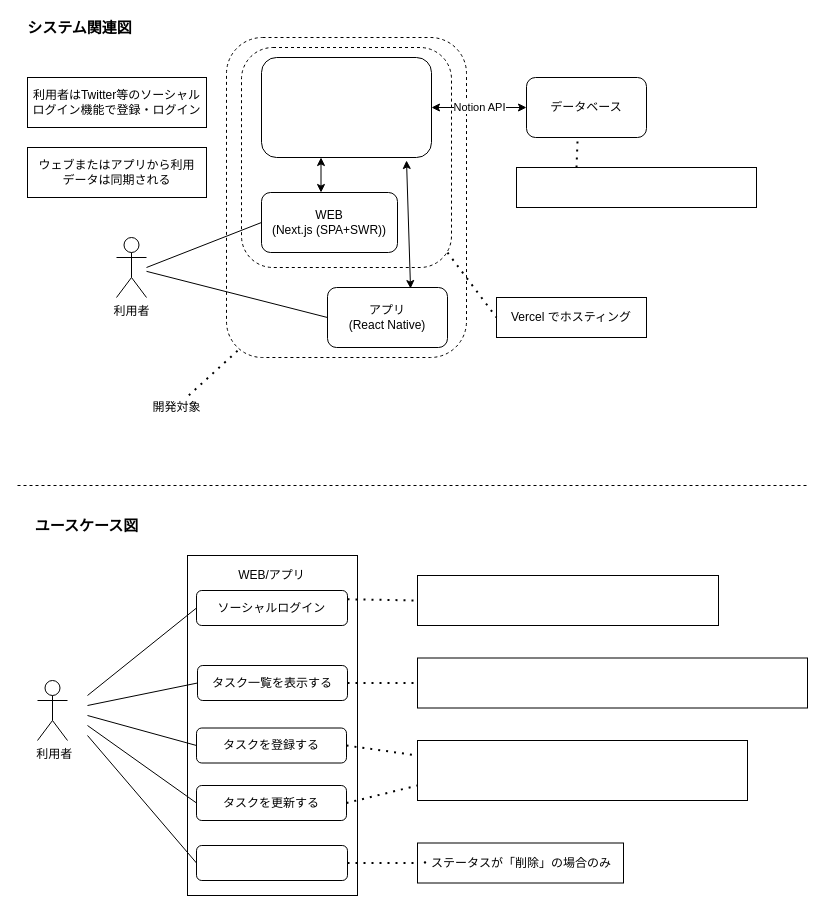
This 826x913 diagram has some shape labels left out. Here are the shapes that lost their labels. From the top down, the centre of each, then its label:
At (346,107): "API (Next.js)".
At (636,187): "データベースとして Notion の Integration を使用する".
At (567,600): "・未登録の場合は登録 ・すでに登録されている場合はログイン ・ユーザーは登録かログインかを意識しなくて良い".
At (612,682): "・状態とタグごとにタブ切り替え表示 ・タグのタブは「登録」「実行中」のタスクが存在するものだけ表示 ・日付でグループ化".
At (582,770): "・未使用のタグが使用されたらタグを作成 ・使用されていないタグは削除 ・ステータスは「登録」「実行中」「完了」「削除」".
At (272,862): "タスクを削除する".
